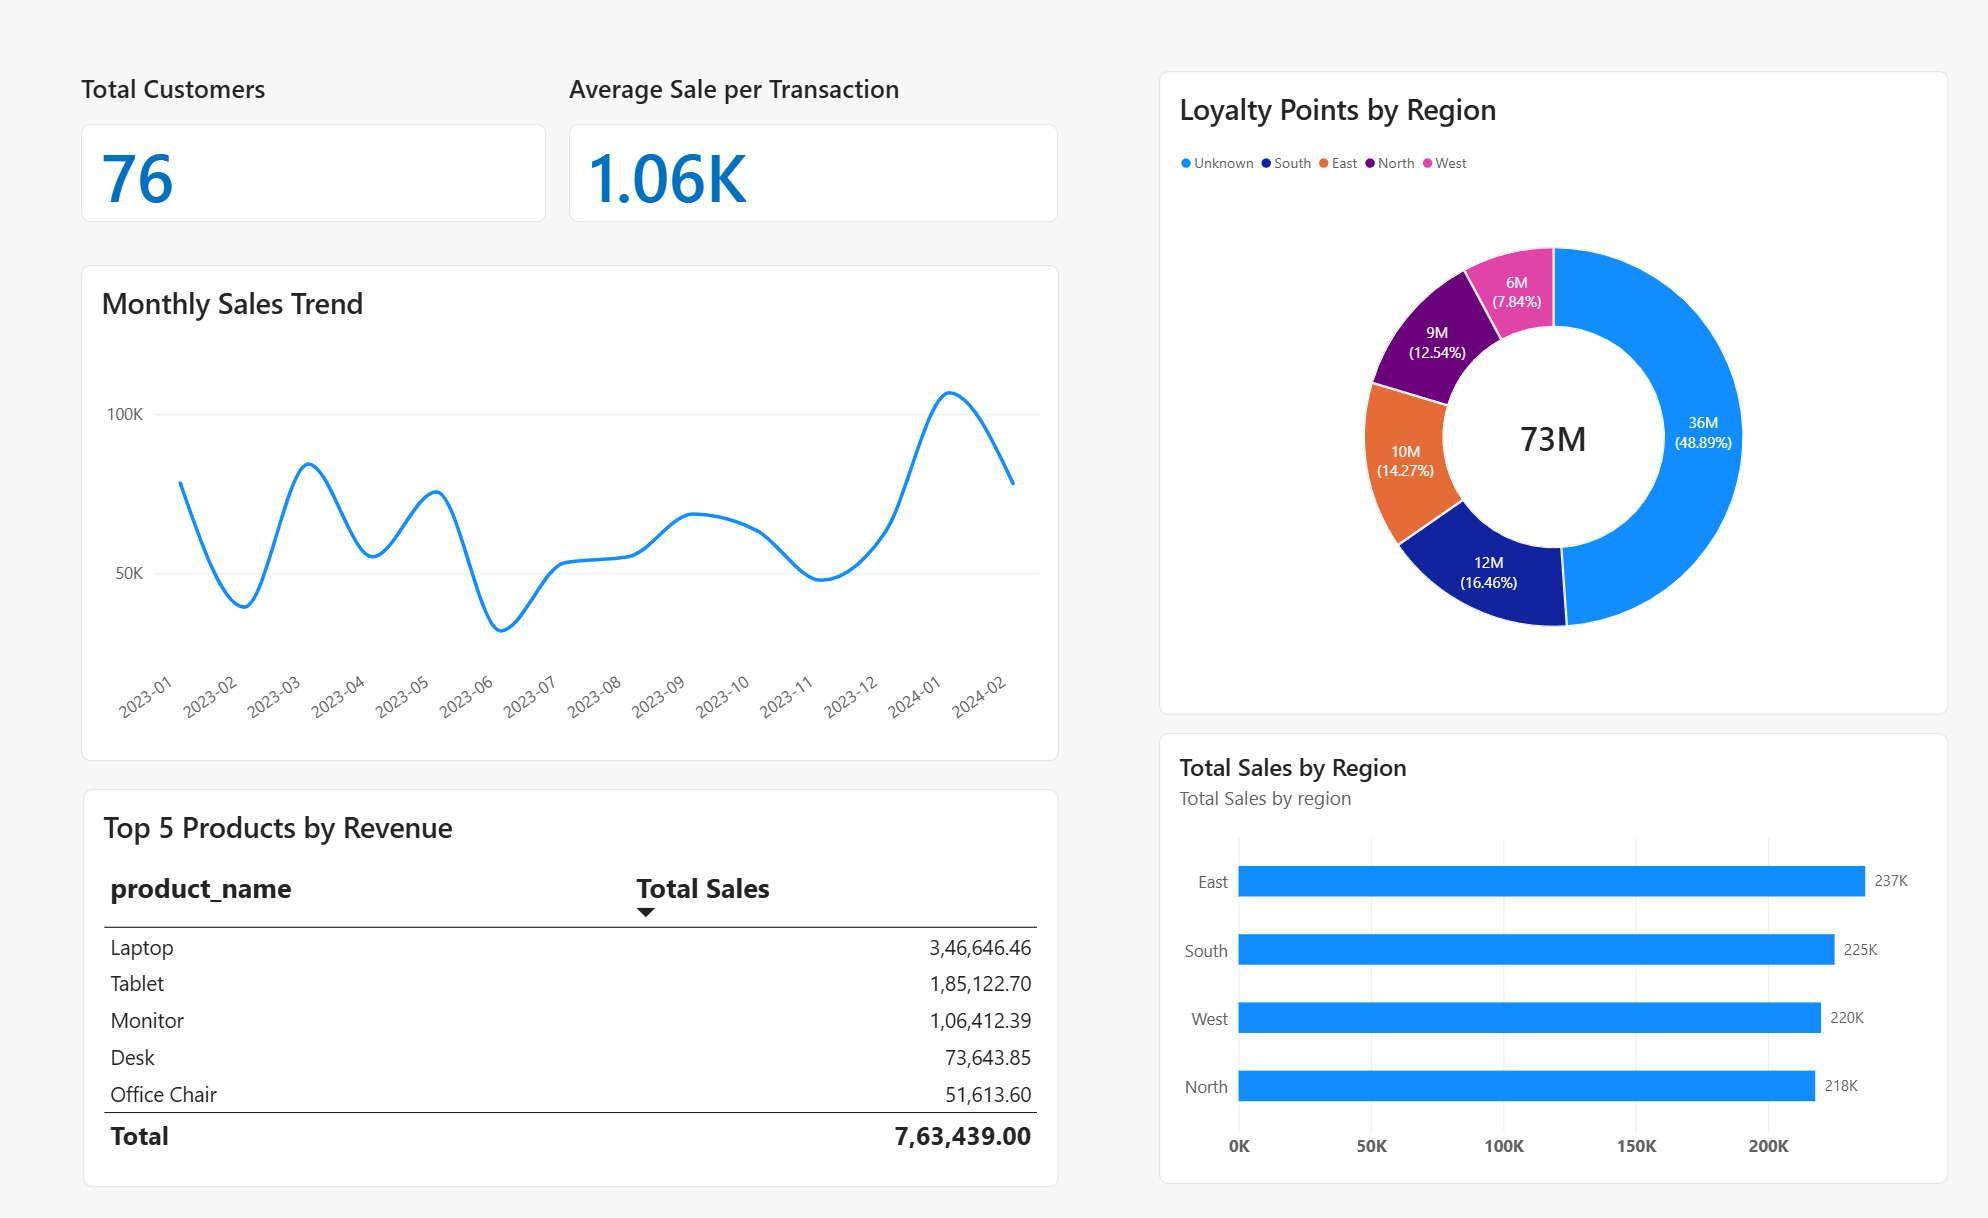

The dashboard page shown, as its layout file describes it:
{"tool":"powerbi","page":{"name":"Page 1","canvas":[1920,1080],"ordinal":0},"visuals":[{"type":"lineChart","title":"Monthly Sales Trend","fields":{"Category":["Sales.YearMonth"],"Y":["Sales.Total Sales"]},"box":[123,252.7,823.9,417.8],"z":1},{"type":"clusteredBarChart","title":"Total Sales by Region","fields":{"Category":["Sales.region"],"Y":["Sales.Total Sales"]},"box":[1030.8,646.4,665,380.2],"z":2},{"type":"tableEx","title":"Top 5 Products by Revenue","fields":{"Values":["Sales.product_name","Sales.Total Sales"]},"box":[124.7,694.2,822.2,335.3],"z":3},{"type":"cardVisual","title":"Total Customers","fields":{"Data":["Sales.Total Customers"]},"box":[123,89.3,392.6,128],"z":4},{"type":"cardVisual","title":"Average Sale per Transaction","fields":{"Data":["Sales.Average Sale per Transaction"]},"box":[534.1,89.3,412.8,128],"z":5},{"type":"donutChart","title":"Loyalty Points by Region","fields":{"Category":["Customers.Region"],"Y":["Sales.Total Loyalty Points"]},"box":[1030.8,89.9,665,542.7],"z":6}]}

Visuals, with their boxes on the page's 1920x1080 design canvas (x1, y1, x2, y2). These are canvas units, not pixel positions in the 1988x1218 screenshot, which may show the page scaled, cropped or inside an application window:
"Monthly Sales Trend" lineChart: <box>123,253,947,670</box>
"Total Sales by Region" clusteredBarChart: <box>1031,646,1696,1027</box>
"Top 5 Products by Revenue" tableEx: <box>125,694,947,1030</box>
"Total Customers" cardVisual: <box>123,89,516,217</box>
"Average Sale per Transaction" cardVisual: <box>534,89,947,217</box>
"Loyalty Points by Region" donutChart: <box>1031,90,1696,633</box>
